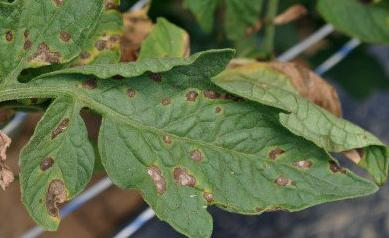Tomato Septoria leaf spot: (57, 43, 389, 238), (11, 93, 100, 231), (0, 0, 127, 84)
